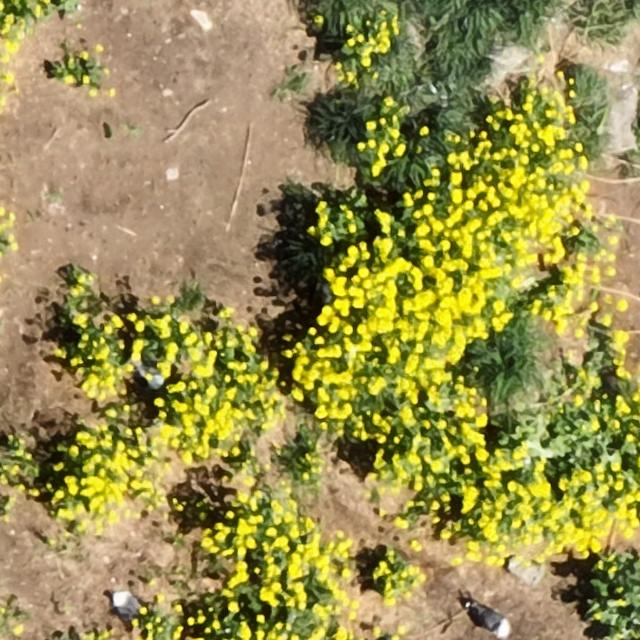umineko: (472, 606, 508, 636), (112, 589, 140, 615)
